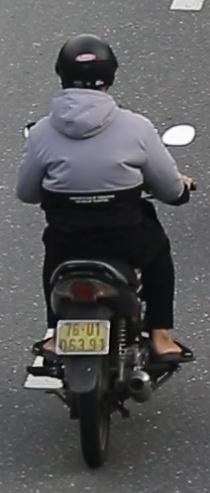LP: (54, 317, 112, 358)
helmet: (51, 29, 129, 122)
